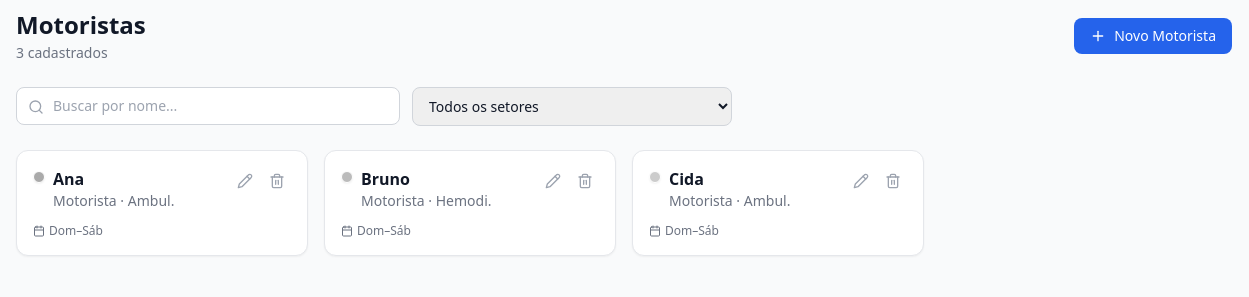
Scenario: EmployeesPage — filtro por setor › filtro de setor sem resultado exibe mensagem descritiva
Select "Transporte Administrativo" in the dropdown named "Filtrar por setor" at {"x": 572, "y": 106}, box top-left (412, 87), bottom-right (732, 126)
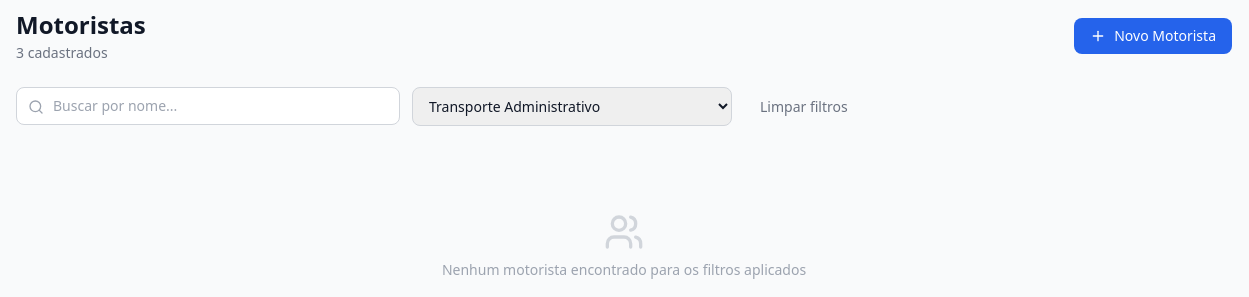
Now the text "Nenhum motorista encontrado para os filtros aplicados" is shown, box top-left (442, 260), bottom-right (806, 280)
